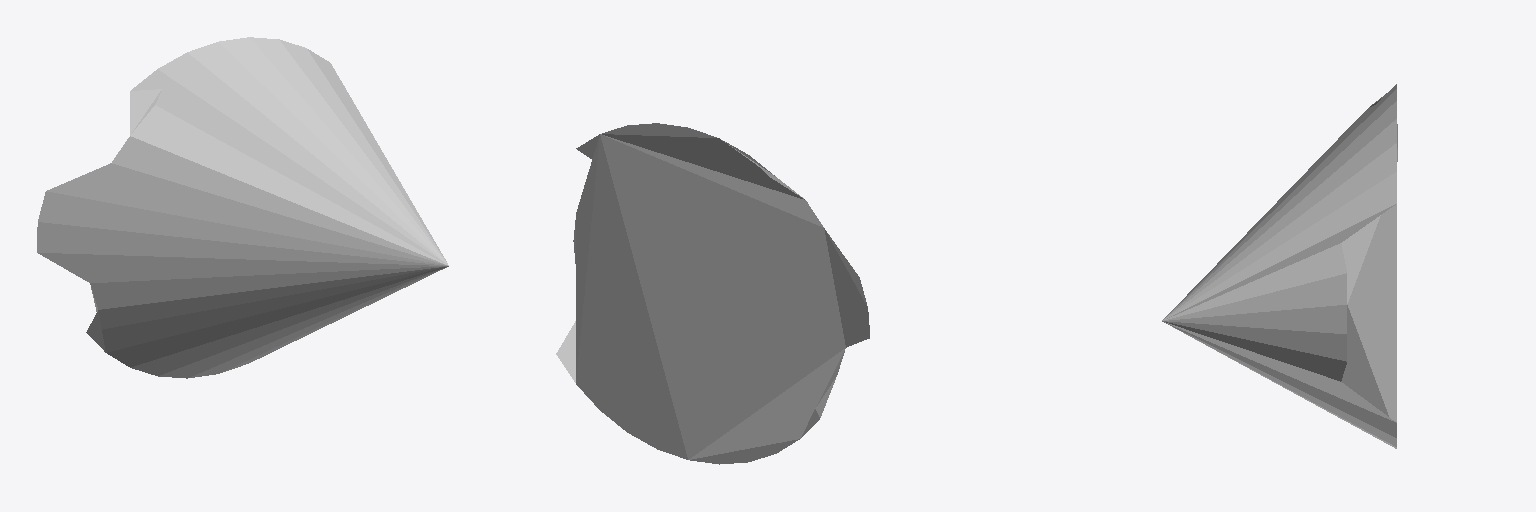
Rendered from playerModel.obj.
The picture shows the model from 3 angles: view 1: azimuth 30°, elevation 25°; view 2: azimuth 150°, elevation 25°; view 3: azimuth 270°, elevation 25°; orthographic projection.
Parts seen in each view (by area): view 1: 円錐; view 2: 円錐; view 3: 円錐.
Part boxes in pixels (x1,y1,x2,y2): 円錐: (37,37,448,378); 円錐: (556,123,869,464); 円錐: (1162,84,1397,448).
Bounding box in the file's own units: 2.02 × 2 × 1.29.